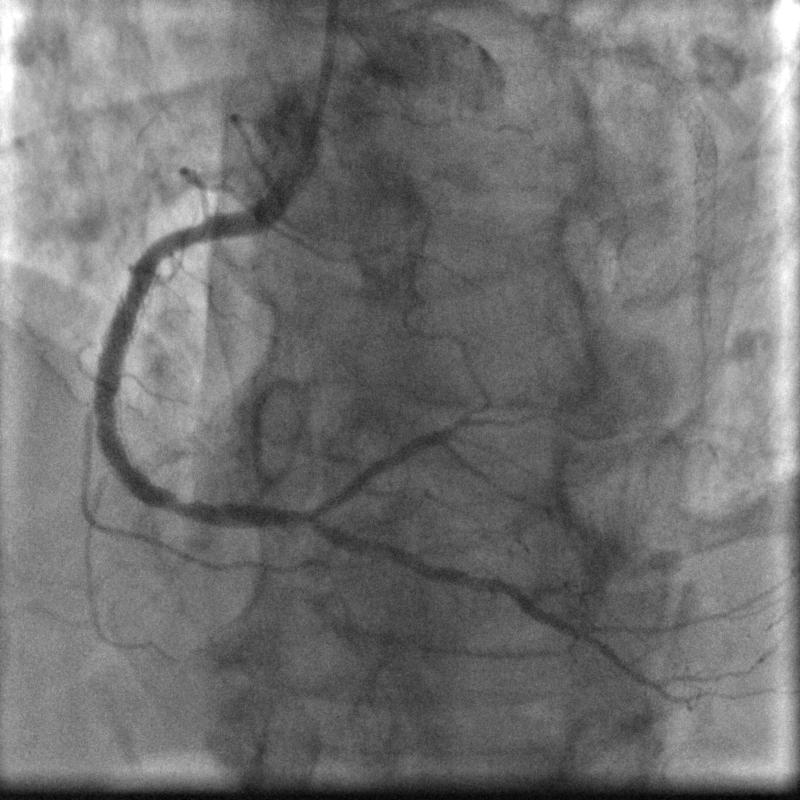Stenosis: (168, 215, 206, 259)
